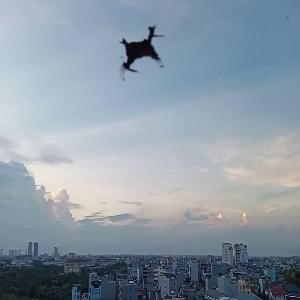drone: (109, 21, 178, 90)
